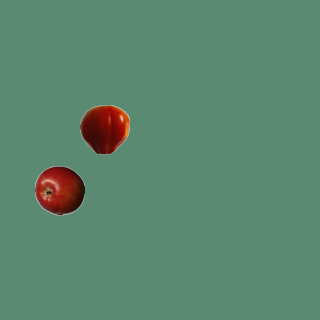Apple Braeburn: (34, 165, 84, 215)
Tomato 1: (79, 104, 129, 154)
